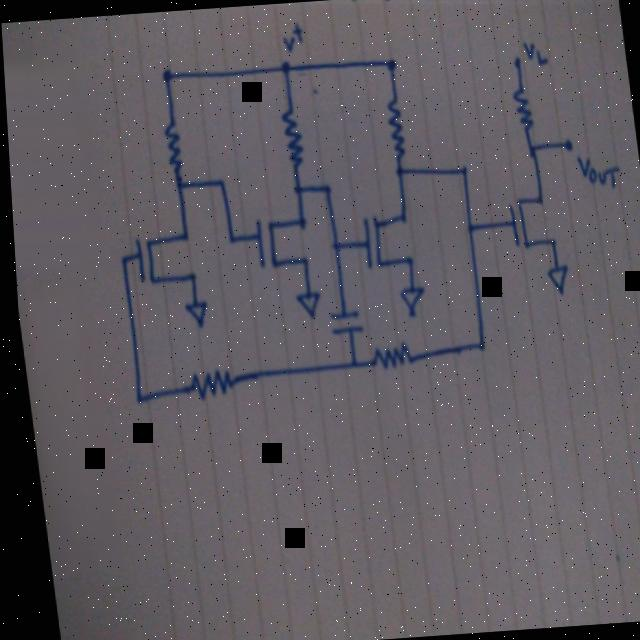capacitor: (321, 308, 360, 336)
ground: (392, 284, 422, 314), (178, 298, 206, 330), (539, 262, 565, 294), (289, 287, 316, 315)
junction: (169, 176, 184, 194), (316, 179, 330, 196), (383, 54, 397, 70), (222, 229, 235, 246), (525, 141, 537, 157), (461, 221, 473, 235), (277, 58, 288, 73), (126, 390, 137, 405), (326, 238, 338, 251), (471, 338, 482, 352), (290, 182, 301, 195), (159, 68, 170, 81), (455, 164, 466, 177), (391, 163, 401, 175), (113, 252, 123, 264), (343, 358, 351, 368), (212, 176, 220, 184)
resistor: (178, 364, 230, 401), (276, 106, 304, 166), (381, 95, 406, 160), (156, 116, 185, 172), (364, 340, 410, 372), (508, 82, 533, 133)
terminal: (561, 137, 575, 152), (510, 54, 522, 68)
text: (571, 152, 614, 190), (275, 19, 303, 52), (520, 37, 547, 64)
transistor: (127, 228, 194, 288), (247, 210, 312, 270), (356, 204, 415, 270), (501, 187, 558, 250)
